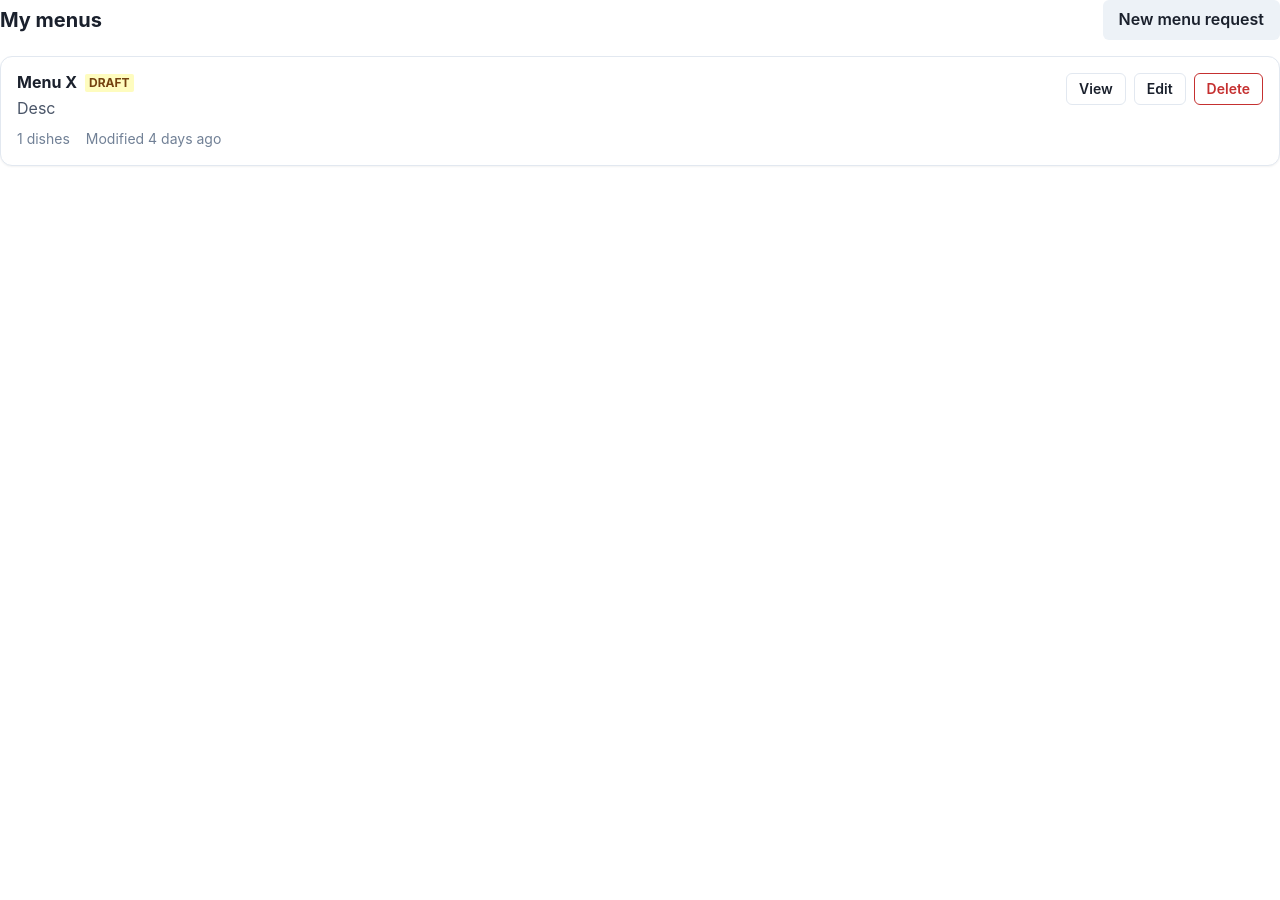
MenuListPage › deletes a menu after confirmation
The width and height of the screenshot is (1280, 900).
Check: the heading "Menu X" is shown, box [17, 73, 77, 92]
Click the button "Delete": [1228, 89] box [1194, 73, 1263, 105]
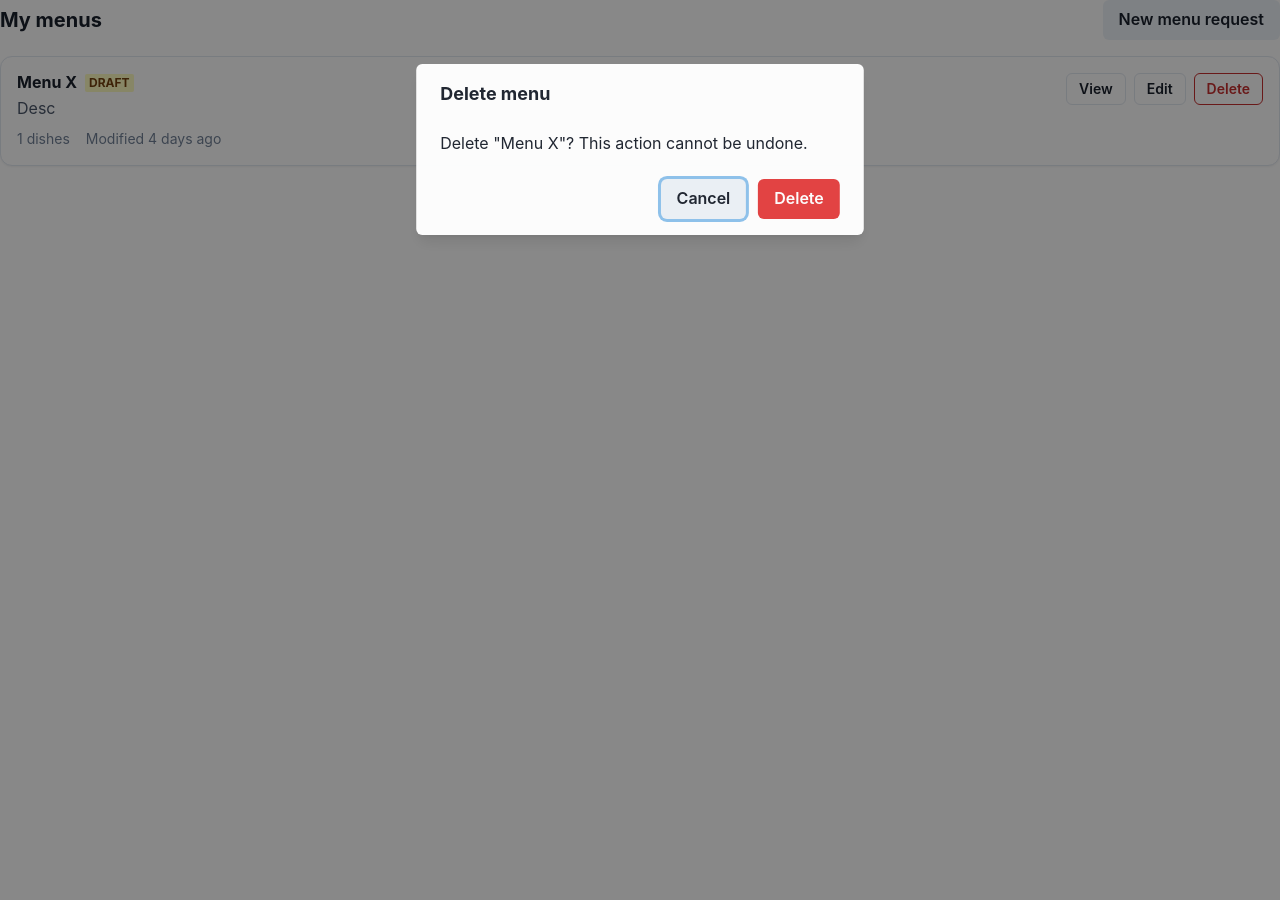
Check: the text "Delete menu" is shown, box [440, 83, 550, 104]
Click the button "Delete": [799, 199] box [758, 179, 840, 219]
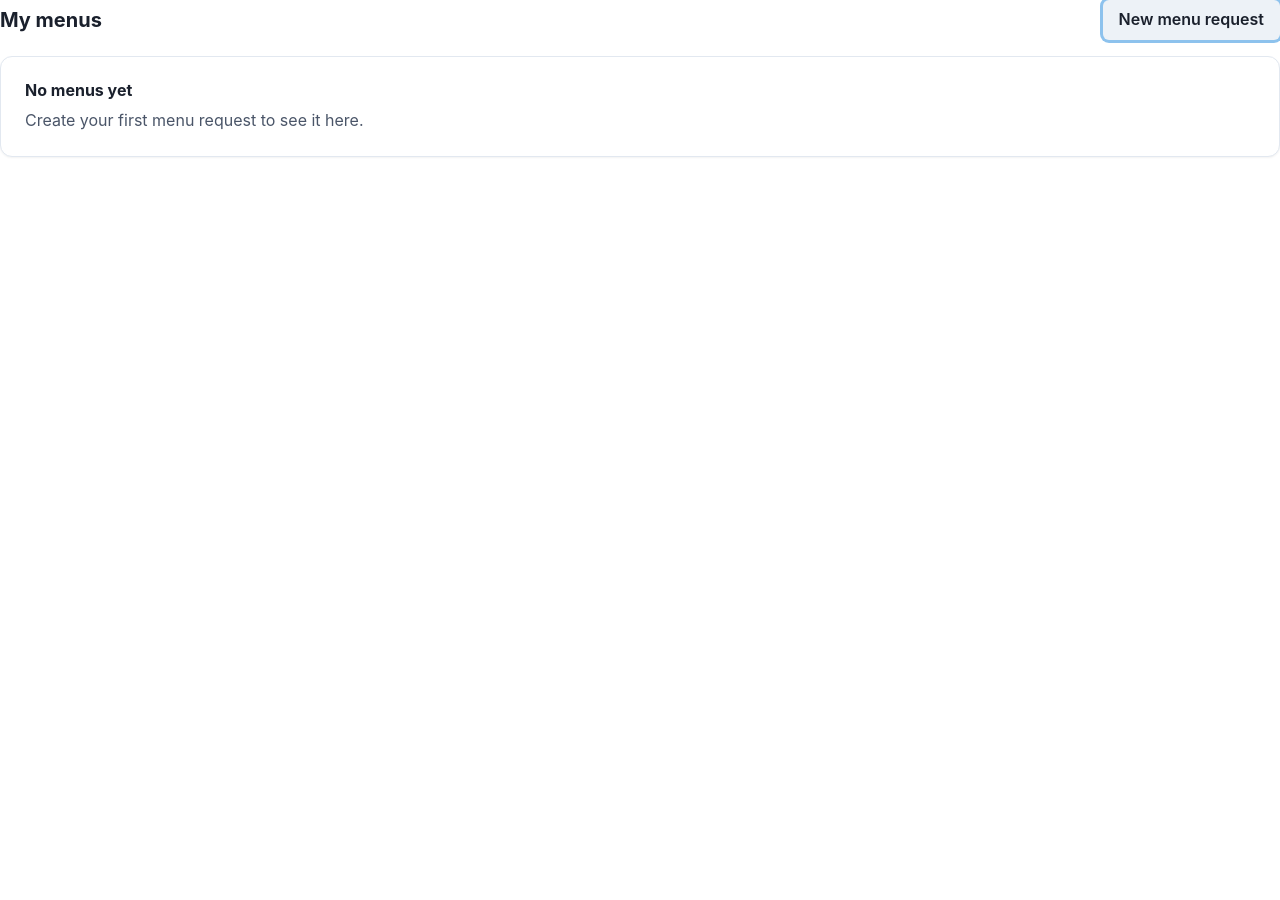
Check: the heading "Menu X" is gone
